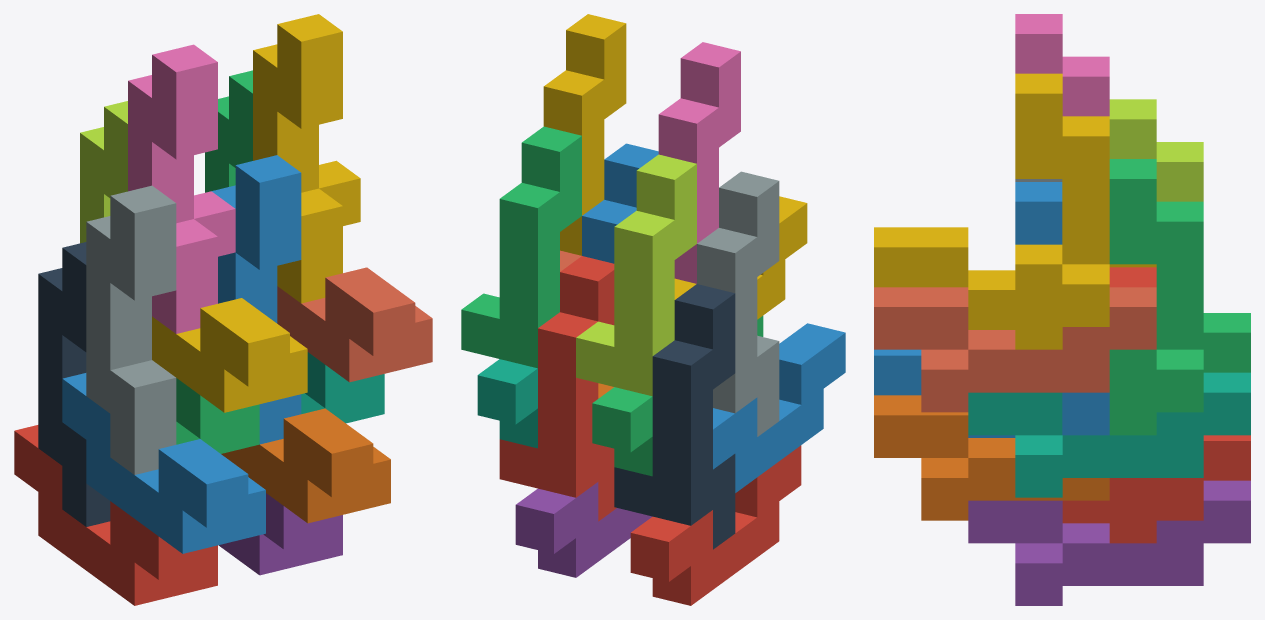
File: tiling.obj
3 renders of one model, left to right at view 1: azimuth 30°, elevation 25°; view 2: azimuth 150°, elevation 25°; view 3: azimuth 270°, elevation 25°, orthographic. The views are drawn at different scales.
Parts seen in each view (by area): view 1: copy_2_domain_2, copy_2_domain_8, copy_2_domain_4, copy_1_domain_2, copy_1_domain_1, copy_1_domain_4, copy_1_domain_8, copy_1_domain_6, copy_2_domain_6, copy_2_domain_1, copy_1_domain_5, copy_2_domain_3 (+3 smaller); view 2: copy_2_domain_1, copy_2_domain_3, copy_2_domain_7, copy_2_domain_5, copy_2_domain_2, copy_1_domain_1, copy_1_domain_2, copy_2_domain_8, copy_2_domain_4, copy_1_domain_5, copy_1_domain_3, copy_1_domain_7 (+2 smaller); view 3: copy_1_domain_8, copy_2_domain_8, copy_2_domain_7, copy_1_domain_5, copy_1_domain_7, copy_1_domain_6, copy_1_domain_4, copy_2_domain_5, copy_2_domain_4, copy_2_domain_3, copy_2_domain_6, copy_1_domain_1 (+2 smaller).
Part boxes in pixels (left/top/right/bottom): copy_2_domain_2: left=86, top=185, right=176, bottom=474; copy_2_domain_8: left=253, top=14, right=360, bottom=303; copy_2_domain_4: left=128, top=44, right=235, bottom=333; copy_1_domain_2: left=62, top=373, right=265, bottom=553; copy_1_domain_1: left=14, top=425, right=217, bottom=605; copy_1_domain_4: left=152, top=298, right=307, bottom=412; copy_1_domain_8: left=277, top=267, right=432, bottom=382; copy_1_domain_6: left=221, top=408, right=390, bottom=523; copy_2_domain_6: left=211, top=155, right=301, bottom=444; copy_2_domain_1: left=38, top=242, right=110, bottom=526; copy_1_domain_5: left=218, top=493, right=342, bottom=575; copy_2_domain_3: left=80, top=101, right=127, bottom=243; copy_2_domain_1: left=614, top=284, right=735, bottom=549; copy_2_domain_3: left=576, top=154, right=696, bottom=396; copy_2_domain_7: left=461, top=126, right=581, bottom=368; copy_2_domain_5: left=499, top=256, right=616, bottom=521; copy_2_domain_2: left=697, top=171, right=779, bottom=436; copy_1_domain_1: left=630, top=445, right=801, bottom=605; copy_1_domain_2: left=713, top=323, right=845, bottom=492; copy_2_domain_8: left=543, top=14, right=626, bottom=255; copy_2_domain_4: left=658, top=42, right=740, bottom=283; copy_1_domain_5: left=515, top=482, right=652, bottom=577; copy_1_domain_3: left=592, top=316, right=763, bottom=476; copy_1_domain_7: left=477, top=359, right=537, bottom=448; copy_1_domain_8: left=874, top=287, right=1156, bottom=412; copy_2_domain_8: left=1015, top=73, right=1109, bottom=349; copy_2_domain_7: left=1109, top=159, right=1203, bottom=435; copy_1_domain_5: left=968, top=480, right=1250, bottom=605; copy_1_domain_7: left=968, top=372, right=1250, bottom=497; copy_1_domain_6: left=874, top=395, right=1109, bottom=520; copy_1_domain_4: left=874, top=227, right=1156, bottom=329; copy_2_domain_5: left=1109, top=267, right=1203, bottom=543; copy_2_domain_4: left=1015, top=14, right=1109, bottom=116; copy_2_domain_3: left=1109, top=99, right=1203, bottom=201; copy_2_domain_6: left=1015, top=182, right=1109, bottom=435; copy_1_domain_1: left=1062, top=435, right=1250, bottom=523.
Size of the model in its own units: 6 by 12 by 8.
